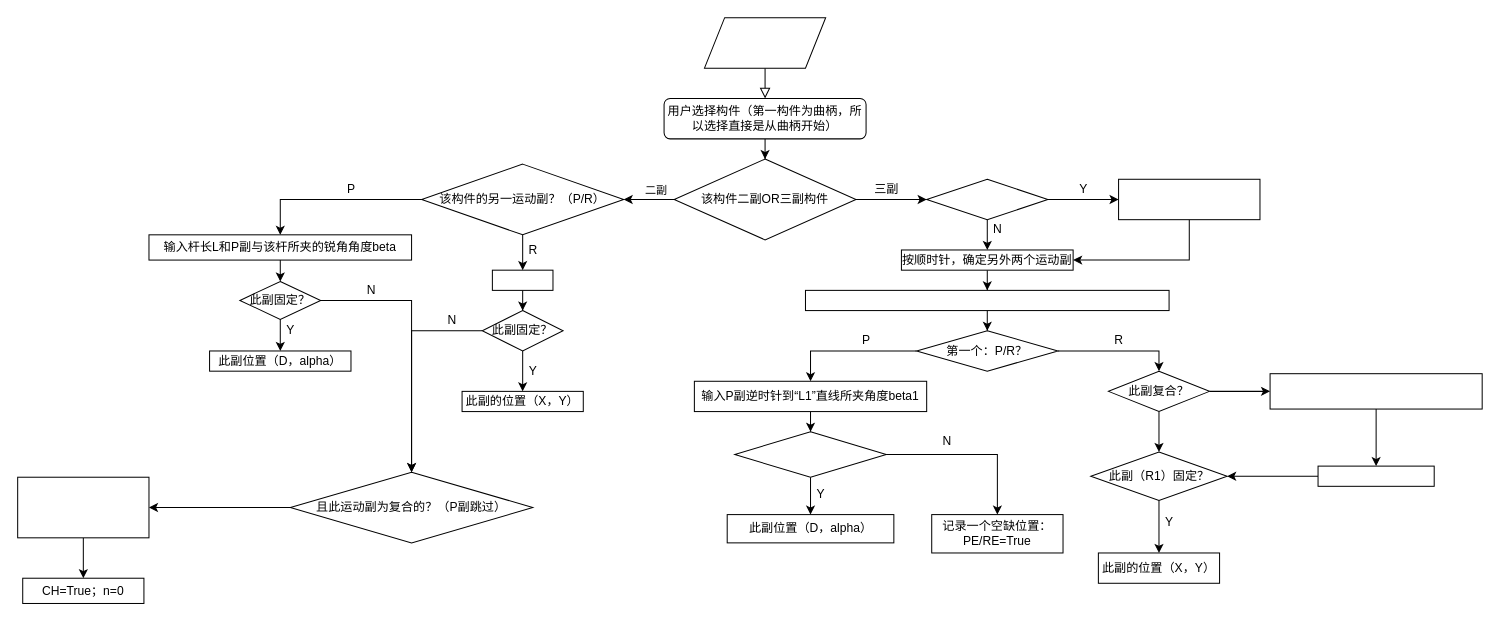
This 1500x621 diagram has some shape labels left out. Here are the shapes that lost their labels. From the top down, the centre of each, then its label:
At pixel 764 42: "开始".
At pixel 987 199: "首副是P副？".
At pixel 1189 199: "输入P副逆时针到“长度3”直线所夹角度beta3".
At pixel 522 279: "输入杆长L".
At pixel 986 300: "输入三副构件的三边长度L1、L2、L3（从上个运动副顺时针描述）".
At pixel 1375 391: "分出另一条链节点标记CH2（顺时针第一条），并从逆时针第一条继续选择".
At pixel 810 454: "此副（Px1）固定？".
At pixel 1375 475: "CH2=True；n2=0".
At pixel 83 507: "分出另一条链节点标记CH（顺时针第一条），并从逆时针第一条继续选择".
